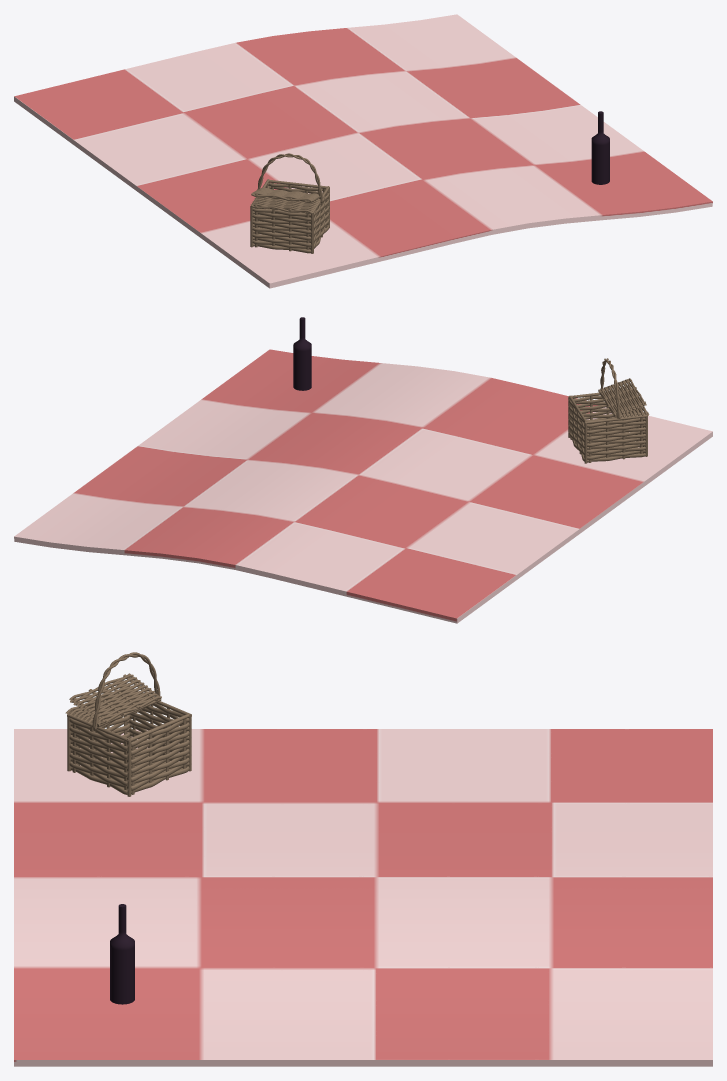
File: picnic.fbx
3 renders of one model, top to bottom at view 1: azimuth 30°, elevation 25°; view 2: azimuth 150°, elevation 25°; view 3: azimuth 270°, elevation 25°, orthographic. The views are drawn at different scales.
Visible parts, largest first — view 1: blanket, basket, wine; view 2: blanket, basket, wine; view 3: blanket, basket, wine.
Boxes of the visible parts, x1=… form: blanket: x1=14, y1=14, x2=712, y2=288; basket: x1=250, y1=153, x2=329, y2=253; wine: x1=591, y1=111, x2=609, y2=184; blanket: x1=14, y1=349, x2=712, y2=623; basket: x1=568, y1=358, x2=649, y2=463; wine: x1=293, y1=317, x2=311, y2=390; blanket: x1=14, y1=729, x2=712, y2=1066; basket: x1=65, y1=652, x2=191, y2=796; wine: x1=110, y1=904, x2=134, y2=1004.
Size of the model in its own units: 93.59 by 23.39 by 93.55.
3 materials, 1 textured.
